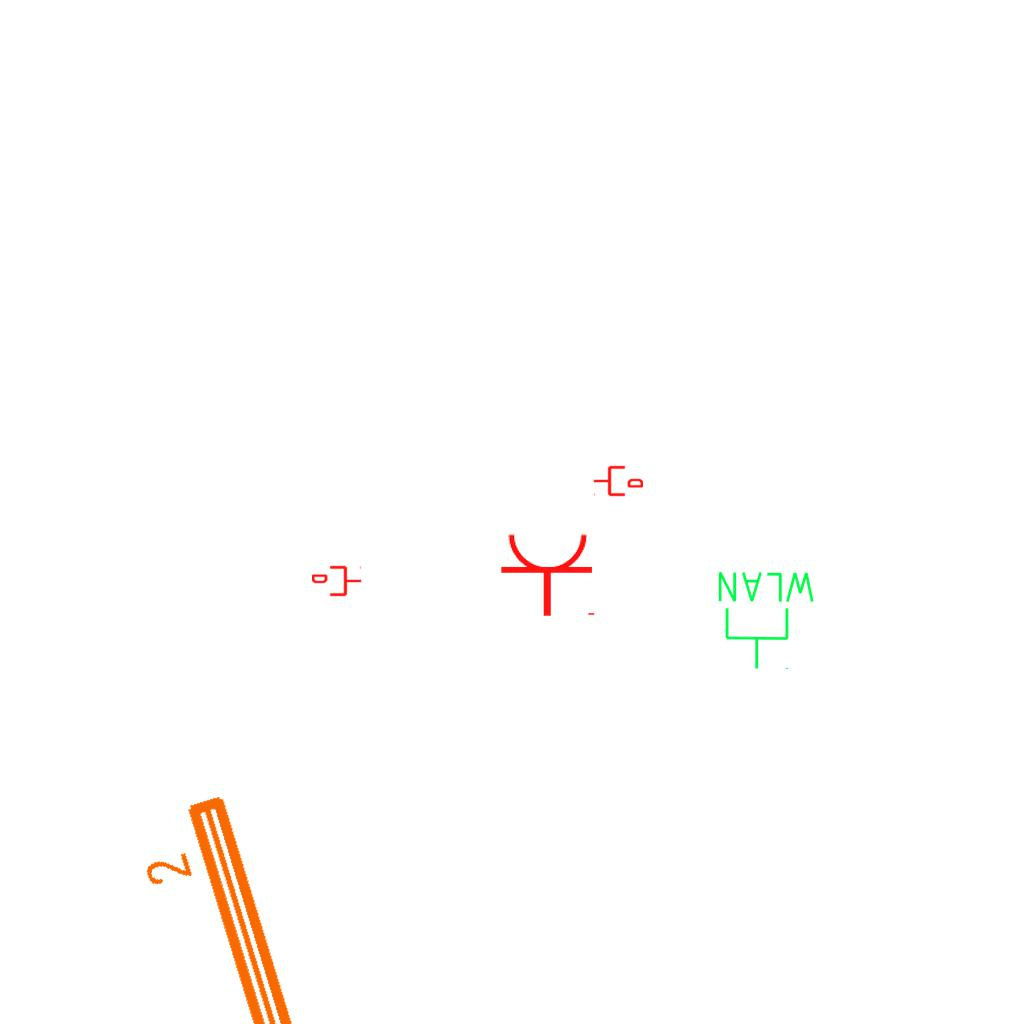Ambulanz_Pendelleuchte_LED: (124, 783, 458, 1024)
Datenanschluss_einfach: (312, 564, 362, 598), (593, 464, 643, 498)
Schukosteckdose_einfach: (499, 531, 599, 618)
WLAN: (714, 568, 819, 672)
